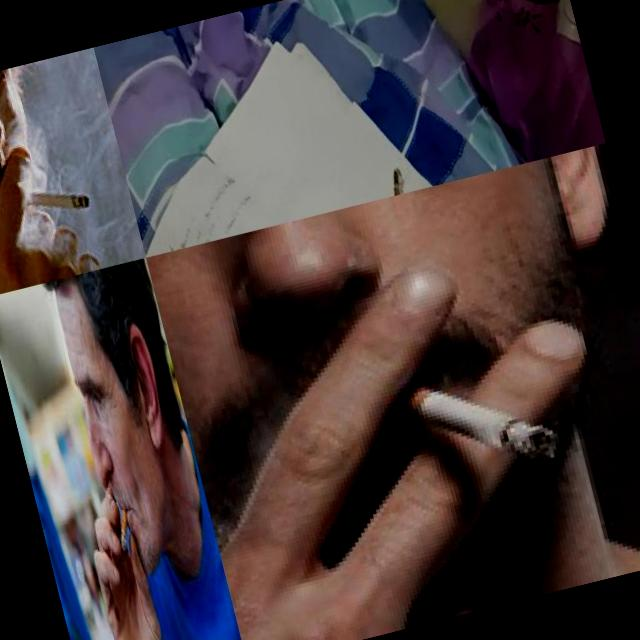cigarette: (399, 356, 554, 485), (21, 175, 90, 222), (371, 164, 408, 198), (112, 508, 134, 553)
